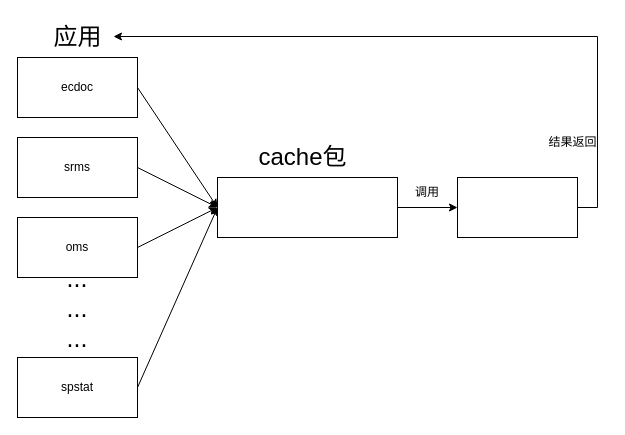
Image size: 625x435. Some labels were removed from this diagram. Each missing label, with the centre of its shape:
"cmsbus-cache或ecmbus-cache" goes at (307,207).
"isupport" goes at (517,207).
